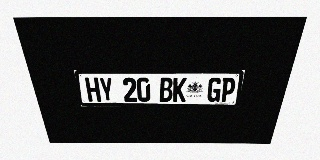0: (136, 77, 150, 102)
2: (122, 77, 137, 102)
B: (159, 77, 173, 102)
G: (206, 77, 223, 102)
H: (85, 77, 101, 102)
K: (173, 77, 187, 102)
P: (220, 77, 237, 102)
Y: (98, 77, 114, 102)
